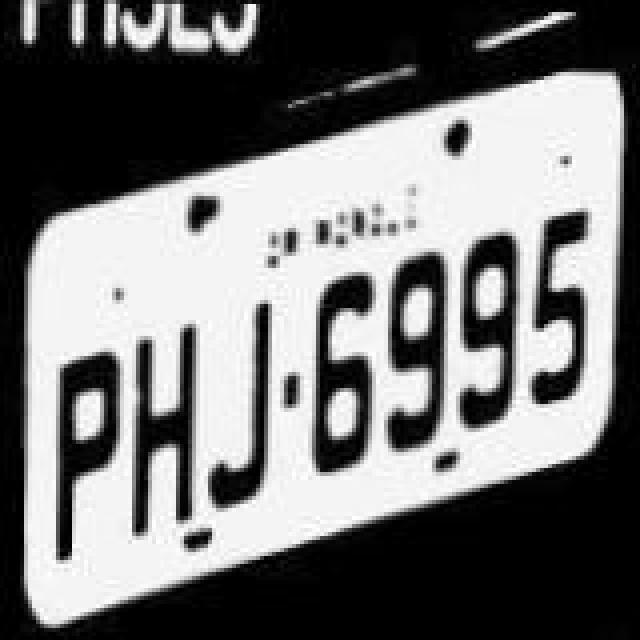5: (524, 190, 592, 406)
6: (308, 266, 376, 478)
9: (454, 214, 526, 430), (384, 232, 452, 444)
H: (126, 310, 202, 538)
J: (208, 278, 280, 506)
P: (54, 338, 130, 562)
